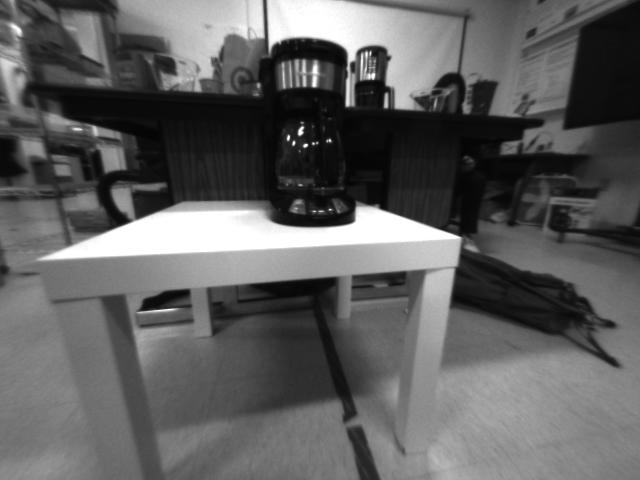coffee_pot: (255, 34, 356, 230)
